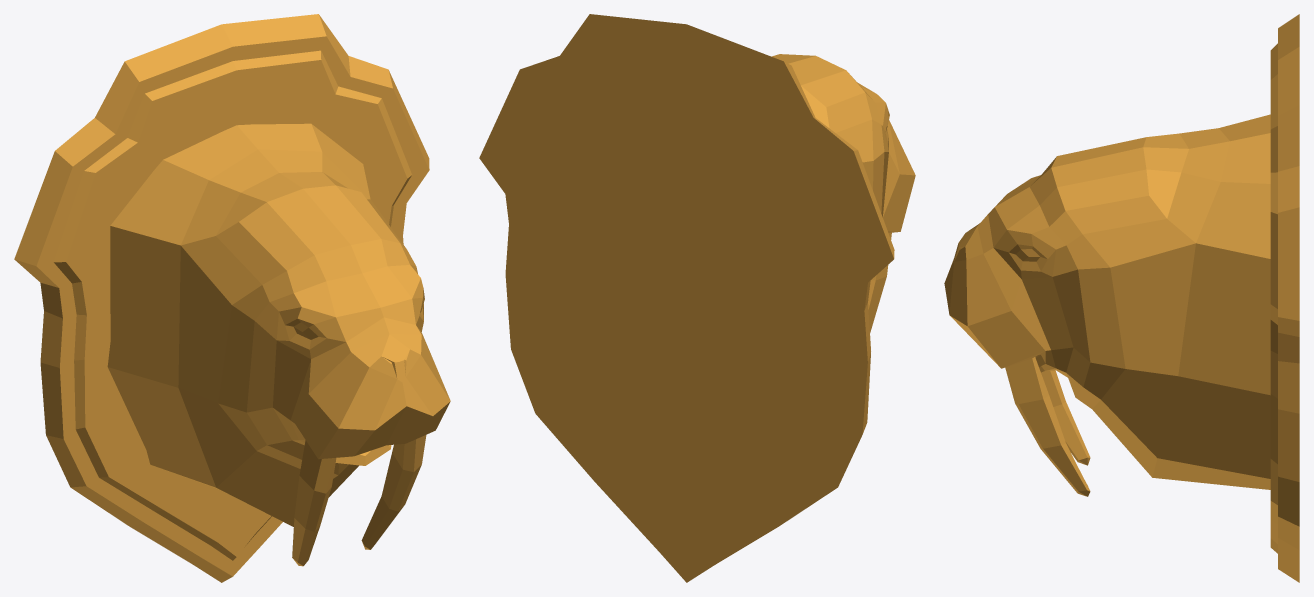
Rendered from SM_Trophy_Walrus.fbx.
3 views of the same model, side by side, from view 1: azimuth 30°, elevation 25°; view 2: azimuth 150°, elevation 25°; view 3: azimuth 270°, elevation 25° (orthographic). The views are drawn at different scales.
Parts seen in each view (by area): view 1: trophy-walrus; view 2: trophy-walrus; view 3: trophy-walrus.
Part boxes in pixels (left/top/right/bottom): trophy-walrus: left=14, top=14, right=450, bottom=582; trophy-walrus: left=479, top=14, right=915, bottom=582; trophy-walrus: left=944, top=14, right=1299, bottom=582.
Bounding box in the file's own units: 0.8438 × 1.09 × 0.6514.
